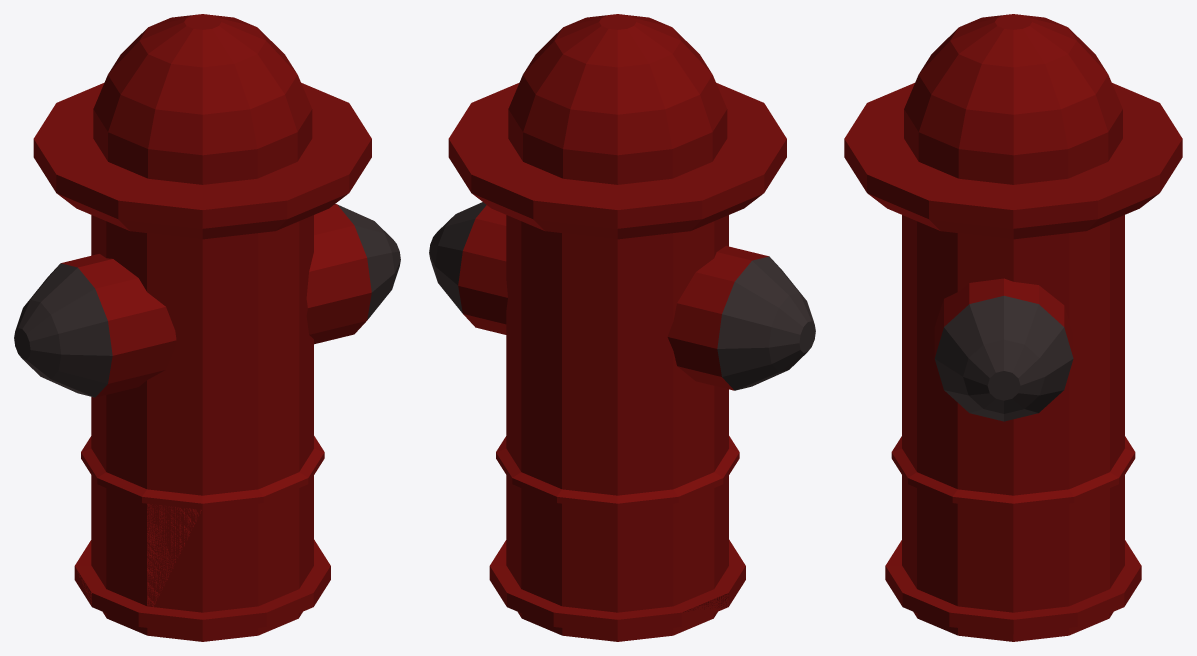
The model's file is HydrantTestNoLight.fbx.
3 views of the same model, side by side, from view 1: azimuth 30°, elevation 25°; view 2: azimuth 150°, elevation 25°; view 3: azimuth 270°, elevation 25° (orthographic).
Visible parts, largest first — view 1: Circle.001; view 2: Circle.001; view 3: Circle.001.
Boxes of the visible parts, left/top/right/bottom form: Circle.001: left=14, top=14, right=400, bottom=641; Circle.001: left=429, top=14, right=815, bottom=641; Circle.001: left=844, top=14, right=1182, bottom=641.
Bounding box in the file's own units: 0.8869 × 1.31 × 0.7016.
